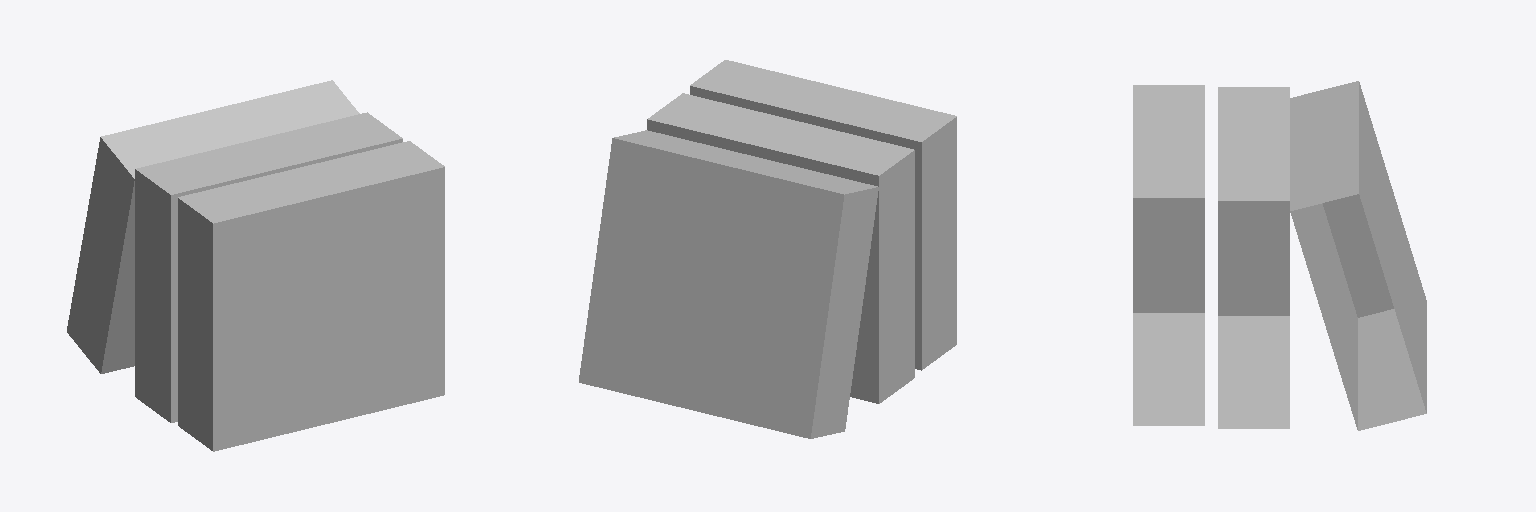
File: books.obj
3 renders of one model, left to right at view 1: azimuth 30°, elevation 25°; view 2: azimuth 150°, elevation 25°; view 3: azimuth 270°, elevation 25°, orthographic.
Visible parts, largest first — view 1: disk book, book2 disk, disk book1; view 2: book2 disk, disk book1, disk book; view 3: book2 disk, disk book1, disk book.
Boxes of the visible parts, <box> form: disk book: <box>178,141,444,451</box>; book2 disk: <box>67,80,359,373</box>; disk book1: <box>135,112,402,422</box>; book2 disk: <box>579,130,878,438</box>; disk book1: <box>647,93,914,403</box>; disk book: <box>690,60,956,370</box>; book2 disk: <box>1290,81,1426,430</box>; disk book1: <box>1218,87,1289,428</box>; disk book: <box>1133,85,1204,425</box>.
Bounding box in the file's own units: 7.13 × 6.96 × 7.81.